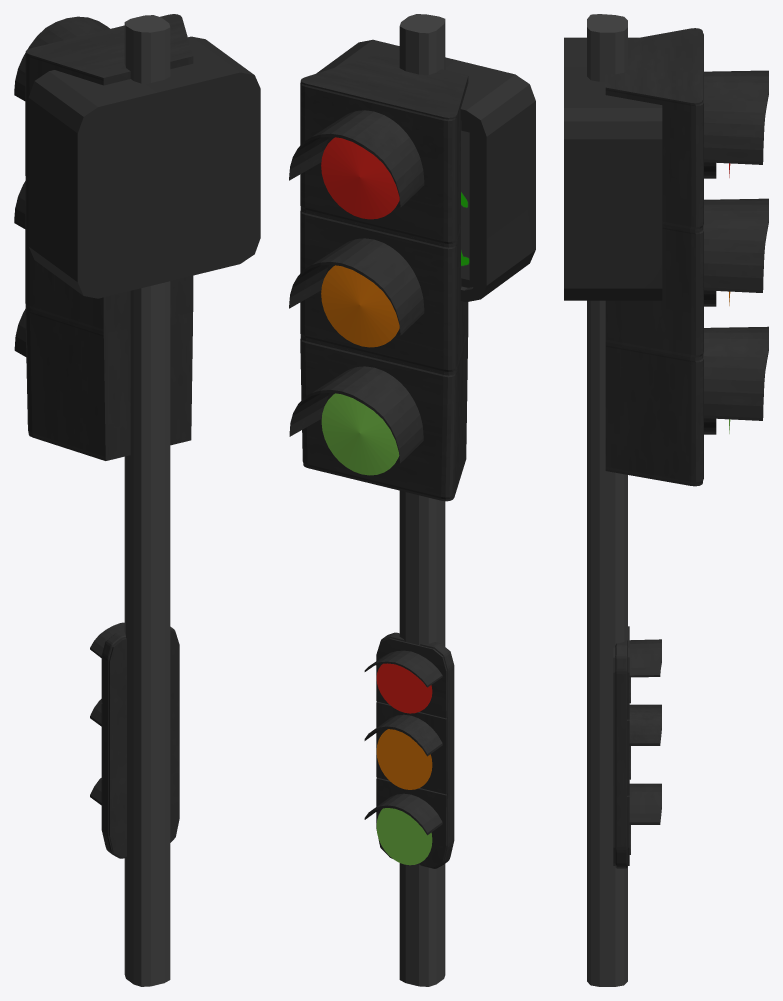
The model's file is feurouge.obj.
3 renders of one model, left to right at view 1: azimuth 30°, elevation 25°; view 2: azimuth 150°, elevation 25°; view 3: azimuth 270°, elevation 25°, orthographic.
Parts seen in each view (by area): view 1: pieton, haut, poteau1, poteau2, bas; view 2: haut, pieton, poteau1, bas, orange2, green2, red2, poteau2, orange1, red1, green1, pietongreen; view 3: haut, pieton, poteau1, bas, poteau2.
Boxes of the visible parts, <box> form: pieton: <box>28,36,260,298</box>; haut: <box>14,14,193,460</box>; poteau1: <box>124,499,170,986</box>; poteau2: <box>124,15,170,509</box>; bas: <box>90,622,179,858</box>; haut: <box>289,54,468,501</box>; pieton: <box>316,39,535,302</box>; poteau1: <box>399,501,445,986</box>; bas: <box>364,632,454,868</box>; orange2: <box>321,265,399,347</box>; green2: <box>321,137,399,219</box>; red2: <box>321,393,399,475</box>; poteau2: <box>399,14,445,509</box>; orange1: <box>376,729,432,789</box>; red1: <box>376,808,432,865</box>; green1: <box>376,663,432,713</box>; pietongreen: <box>461,130,469,280</box>; haut: <box>605,28,768,486</box>; pieton: <box>564,37,662,300</box>; poteau1: <box>587,504,627,986</box>; bas: <box>613,626,661,868</box>; poteau2: <box>587,14,627,509</box>.
Bounding box in the file's own units: 0.5473 × 2.73 × 0.5297.
5 materials, 5 textured.
